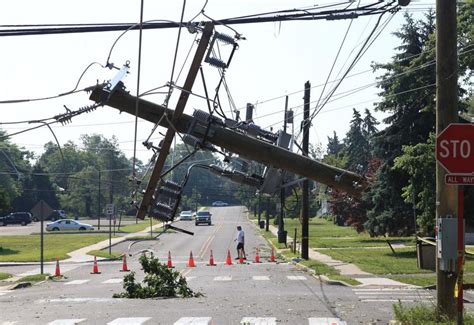pole: (65, 47, 379, 211)
